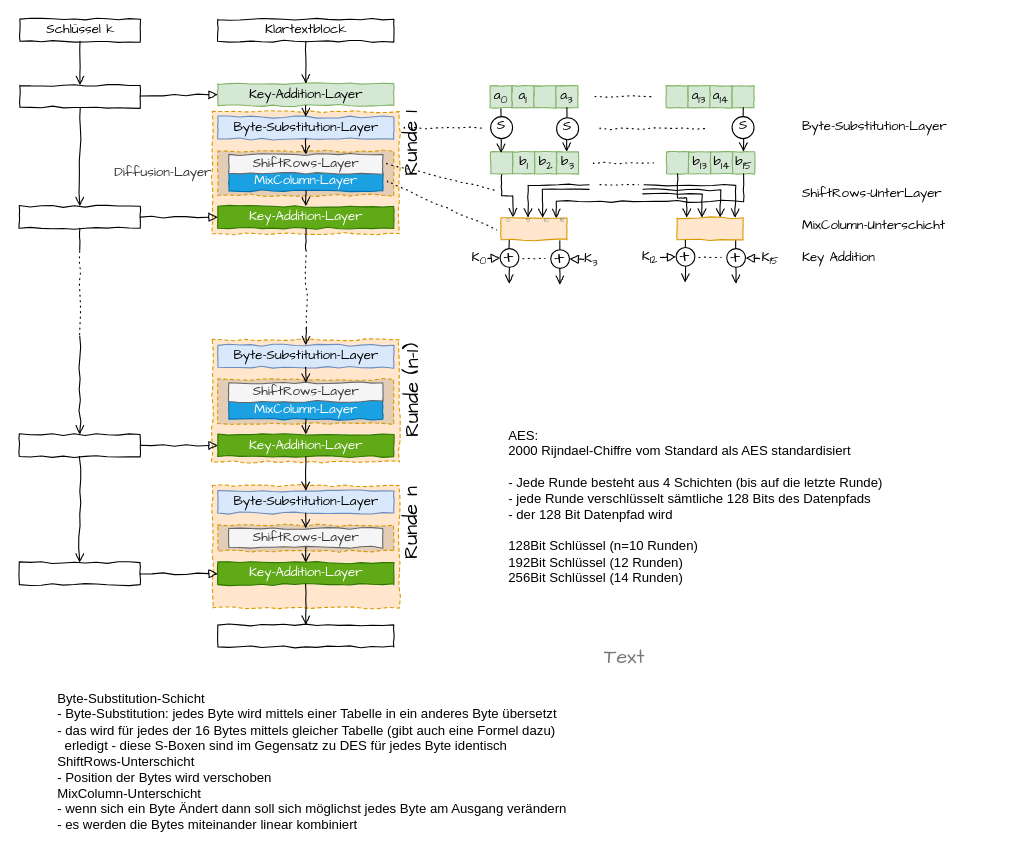
The diagram is 1012 pixels wide and 853 high, and some of its shapes have lost their labels. The shapes that lost their labels are listed below. From the top down, each one's centre as x and y in pixels, then its label:
point (79, 95): Transformation 0
point (544, 96): a 2
point (676, 96): a 12
point (742, 96): a 15
point (501, 162): b 0
point (677, 162): b 12
point (79, 216): Transformation 1
point (79, 445): Transformation n-1
point (79, 573): Transformation n
point (305, 635): Chiffrat
